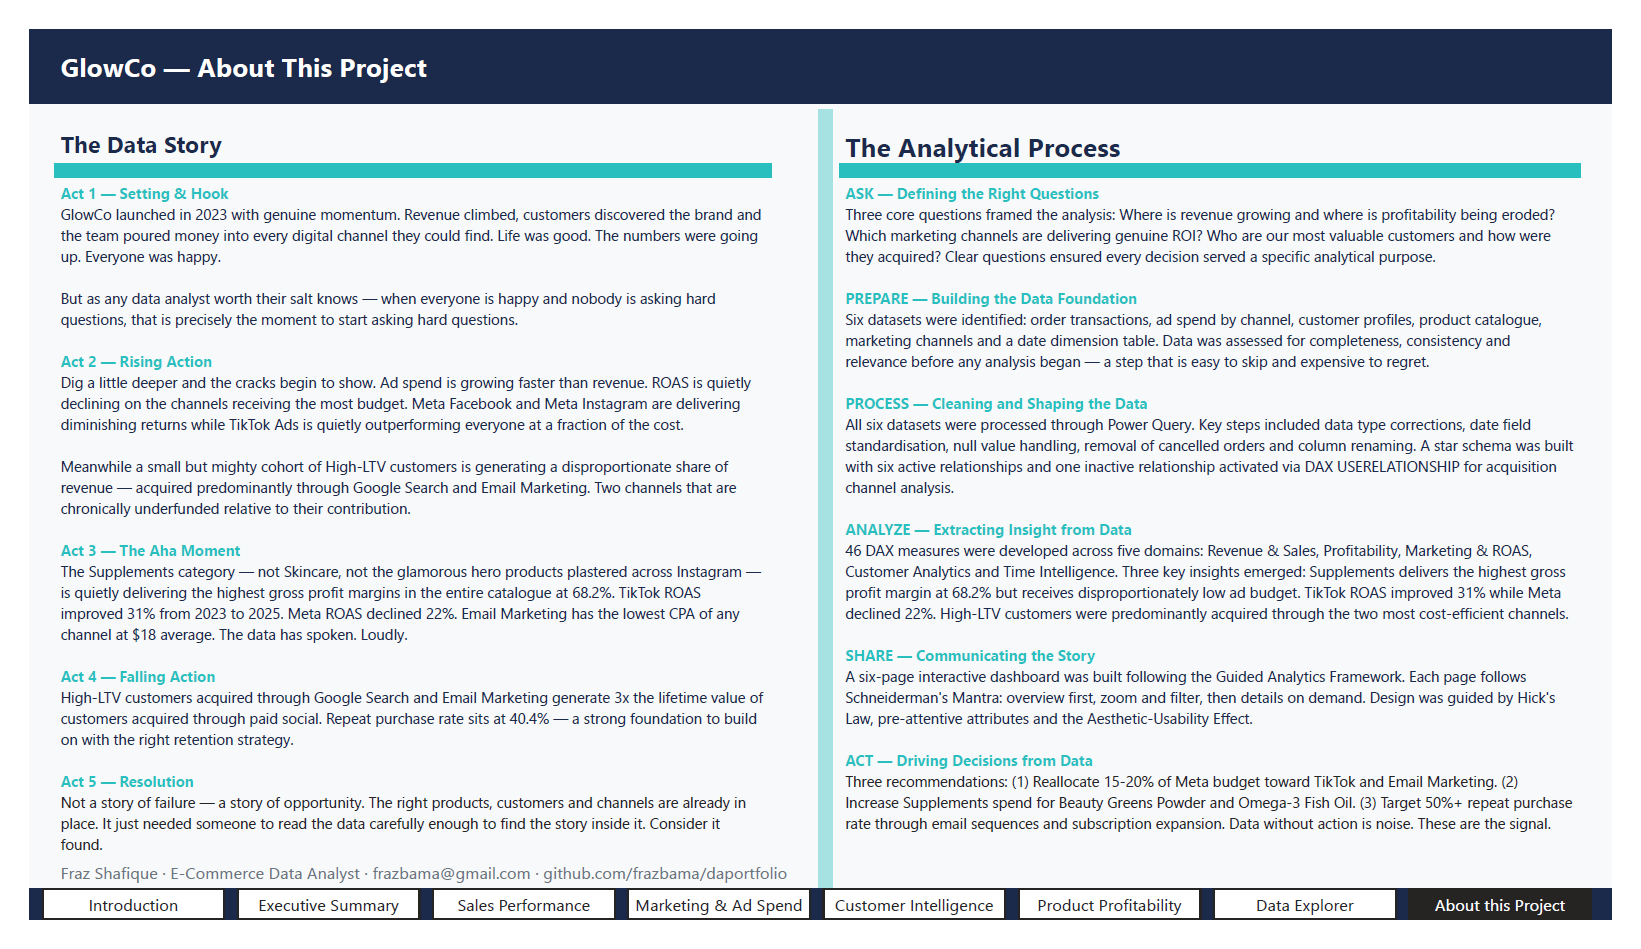

What the dashboard file says about the page in this screenshot:
{"tool":"powerbi","page":{"name":"About this Project","canvas":[1280,720],"ordinal":7},"visuals":[{"type":"shape","title":"Shape - header ","box":[0,0,1280,60],"z":1000},{"type":"textbox","title":"Text box - Glowco","box":[20,10,500,40],"z":2000},{"type":"textbox","title":"Text box - data story","box":[19.7,74.5,580.8,37.3],"z":3000},{"type":"shape","title":"Shape - teal underline","box":[20,108,580,12],"z":4000},{"type":"textbox","title":"Text box - Acts","box":[20,118,580.8,565],"z":5000},{"type":"shape","title":"Shape - vertical divider","box":[638,65,12,650],"z":6000},{"type":"textbox","title":"Text box - data story","box":[655.3,74.5,599.5,43.8],"z":7000},{"type":"shape","title":"Shape - teal underline","box":[655,108,600,12],"z":8000},{"type":"textbox","title":"Text box - analytical process","box":[655,118,600,565],"z":9000},{"type":"shape","title":"Shape - navigator background","box":[0,695,1280,25],"z":10000},{"type":"pageNavigator","box":[10,695,1260,25],"z":11000},{"type":"textbox","title":" Text box - Fraz ","box":[19.7,668.5,1240.5,39.5],"z":12000}]}

Visuals, with their boxes in screenshot pixels (x1, y1, x2, y2), scaled from the page's 1280x720 canvas onto the 1641x949 screenshot:
"Shape - header " shape: <bbox>0, 0, 1640, 79</bbox>
"Text box - Glowco" textbox: <bbox>26, 13, 667, 66</bbox>
"Text box - data story" textbox: <bbox>25, 98, 770, 147</bbox>
"Shape - teal underline" shape: <bbox>26, 142, 769, 158</bbox>
"Text box - Acts" textbox: <bbox>26, 156, 770, 900</bbox>
"Shape - vertical divider" shape: <bbox>818, 86, 833, 942</bbox>
"Text box - data story" textbox: <bbox>840, 98, 1609, 156</bbox>
"Shape - teal underline" shape: <bbox>840, 142, 1609, 158</bbox>
"Text box - analytical process" textbox: <bbox>840, 156, 1609, 900</bbox>
"Shape - navigator background" shape: <bbox>0, 916, 1640, 948</bbox>
pageNavigator: <bbox>13, 916, 1628, 948</bbox>
" Text box - Fraz " textbox: <bbox>25, 881, 1616, 933</bbox>
